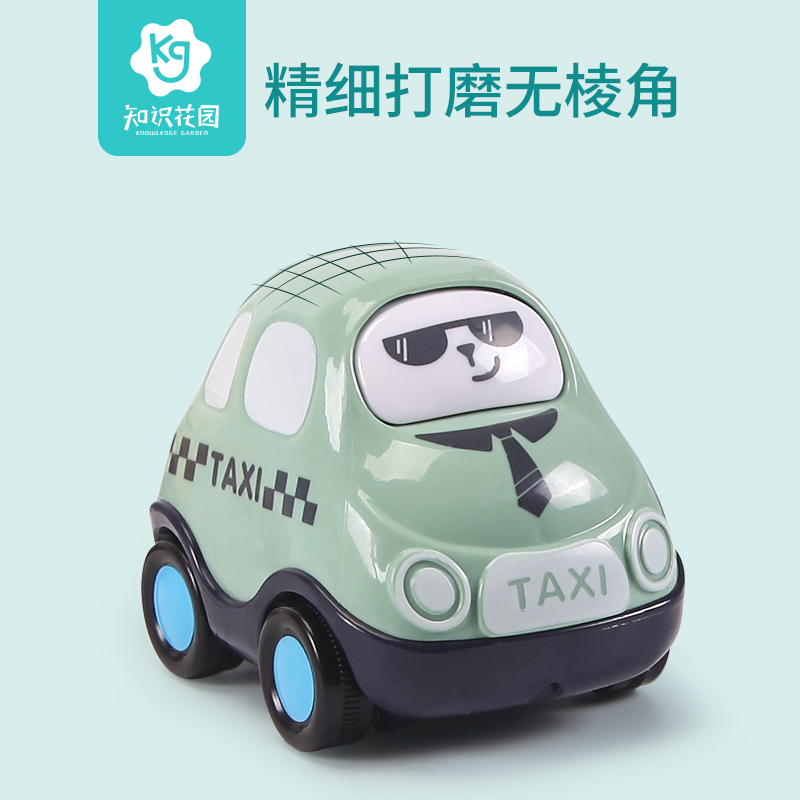Car: (131, 234, 704, 758)
